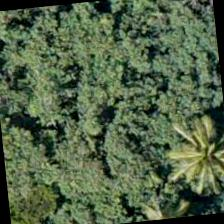Kelapa_Sawit: (161, 108, 223, 206)
